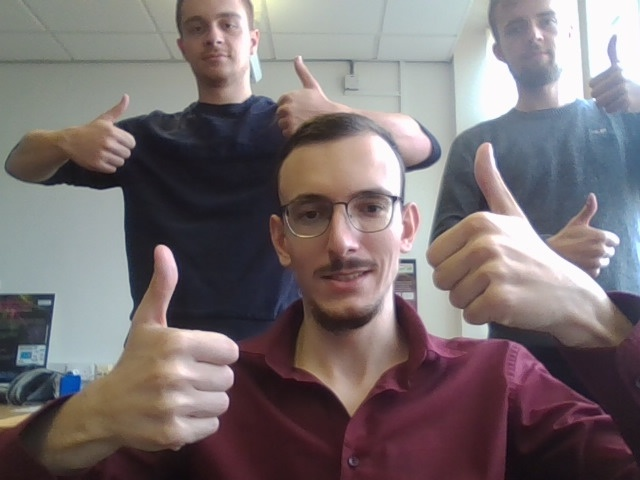thumbup: (99, 242, 238, 452), (425, 144, 558, 330), (553, 193, 619, 283), (273, 54, 347, 134), (70, 94, 138, 175), (587, 35, 636, 115)
